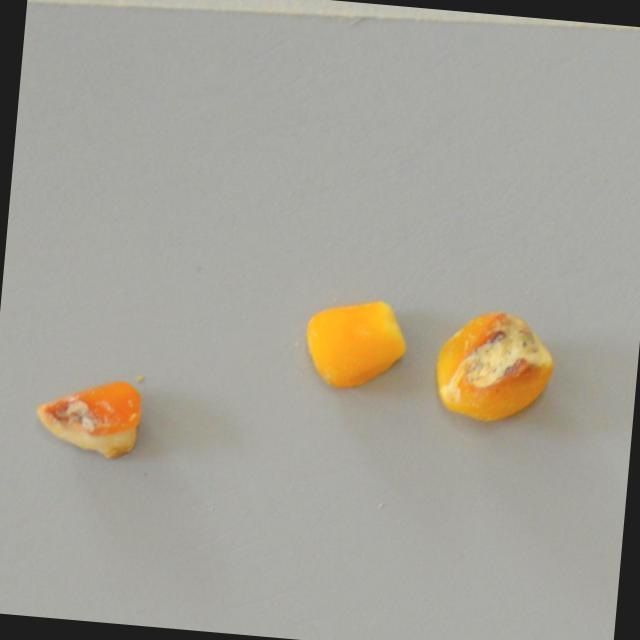dañado: (424, 295, 563, 437), (28, 363, 152, 467), (299, 290, 412, 400)
